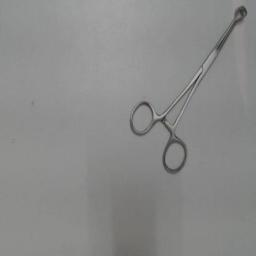Babcock Tissue Forceps: (125, 2, 249, 176)
